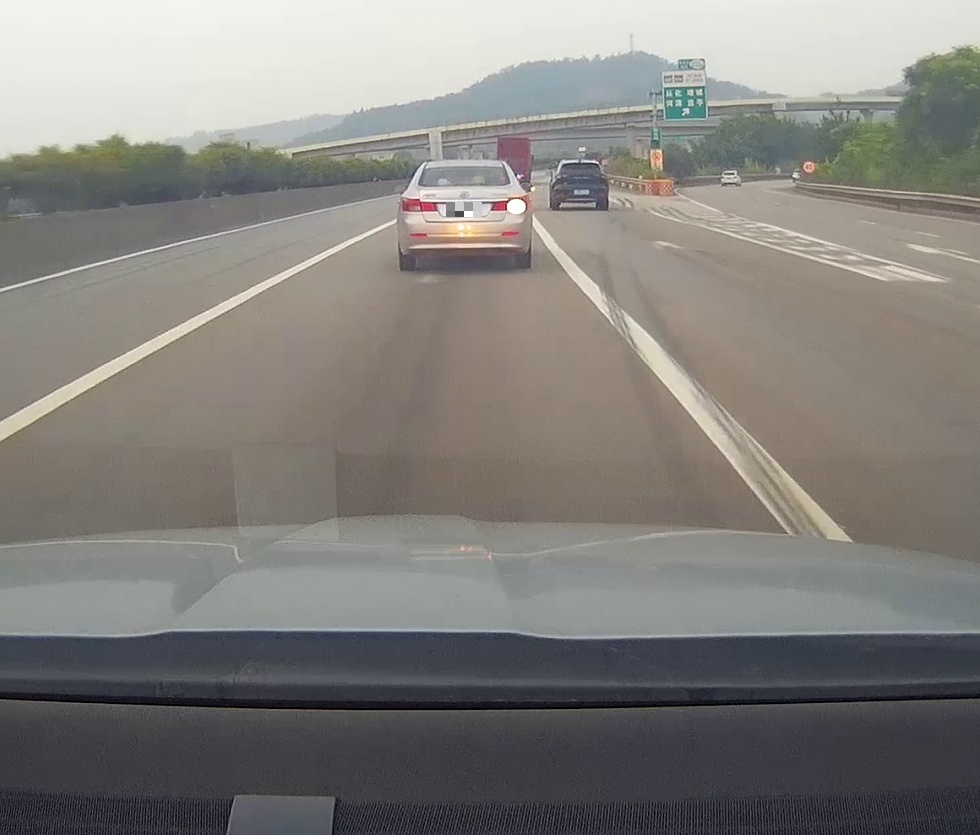L_light: (401, 196, 438, 211), (555, 174, 568, 179)
R_light: (490, 198, 527, 215), (593, 173, 606, 179)
T_light: (457, 164, 472, 168), (576, 161, 585, 164)
day-no: (551, 159, 609, 210)
day-right: (399, 159, 529, 271)
plate_1: (446, 202, 482, 217)
